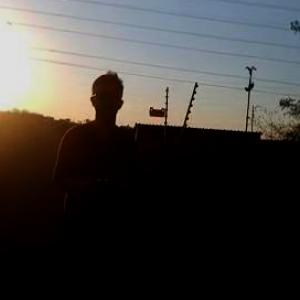follow: (38, 57, 136, 299)
